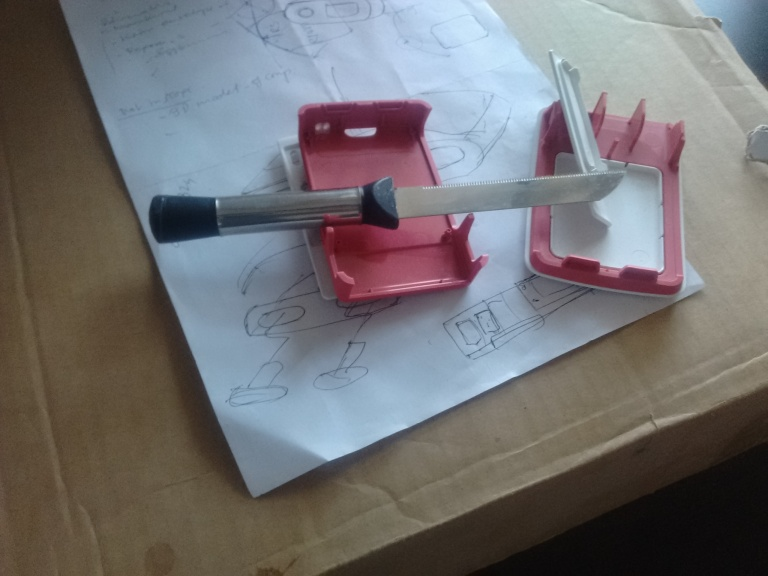knife: (149, 170, 628, 244)
